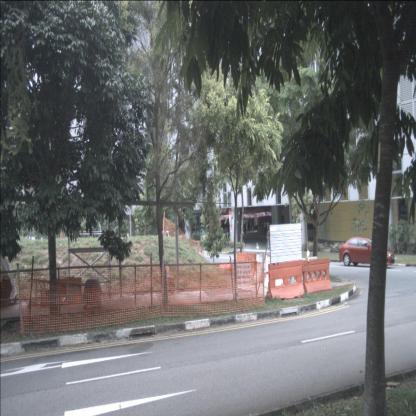human-pedestrian-adult: (266, 229, 271, 250), (244, 218, 247, 234), (247, 220, 250, 233)
movable_object-barrier: (266, 260, 304, 301), (300, 257, 332, 295), (236, 252, 257, 280)
vehicle-car: (339, 236, 395, 269)
